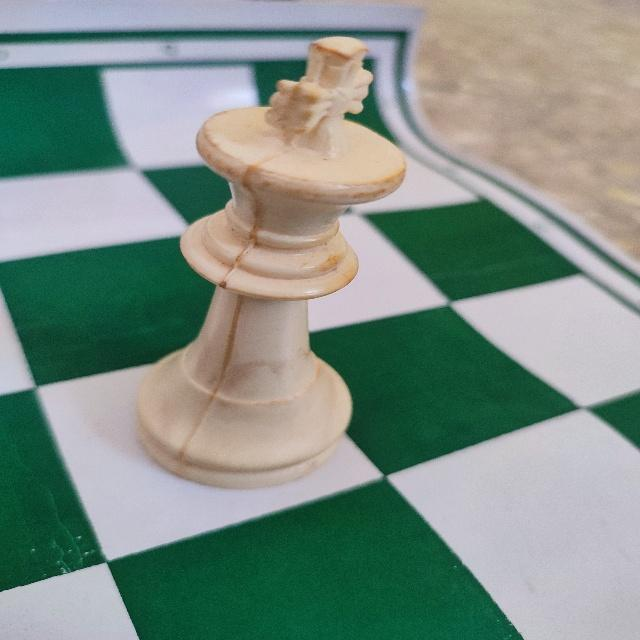King: (132, 32, 412, 494)
